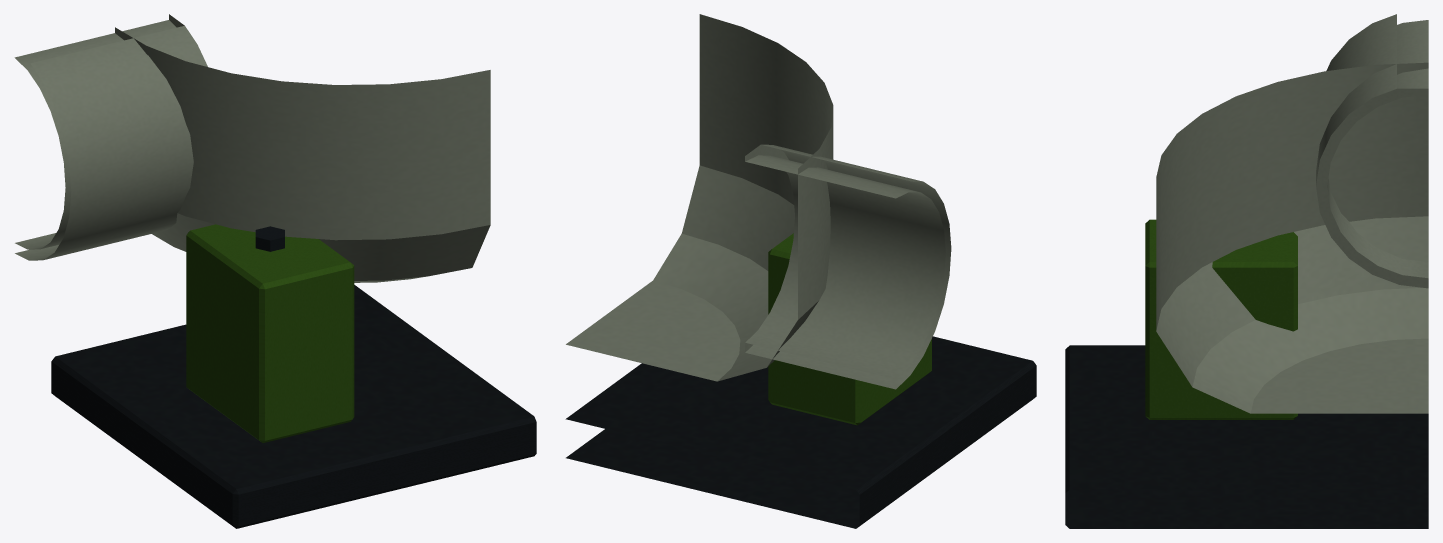
File: cell_5.obj
3 renders of one model, left to right at view 1: azimuth 30°, elevation 25°; view 2: azimuth 150°, elevation 25°; view 3: azimuth 270°, elevation 25°, orthographic. The views are drawn at different scales.
Parts seen in each view (by area): view 1: cell_5; view 2: cell_5; view 3: cell_5.
Part boxes in pixels (left/top/right/bottom): cell_5: left=14, top=14, right=536, bottom=528; cell_5: left=565, top=14, right=1036, bottom=528; cell_5: left=1065, top=14, right=1428, bottom=528.
Bounding box in the file's own units: 1 × 1 × 0.9375.
